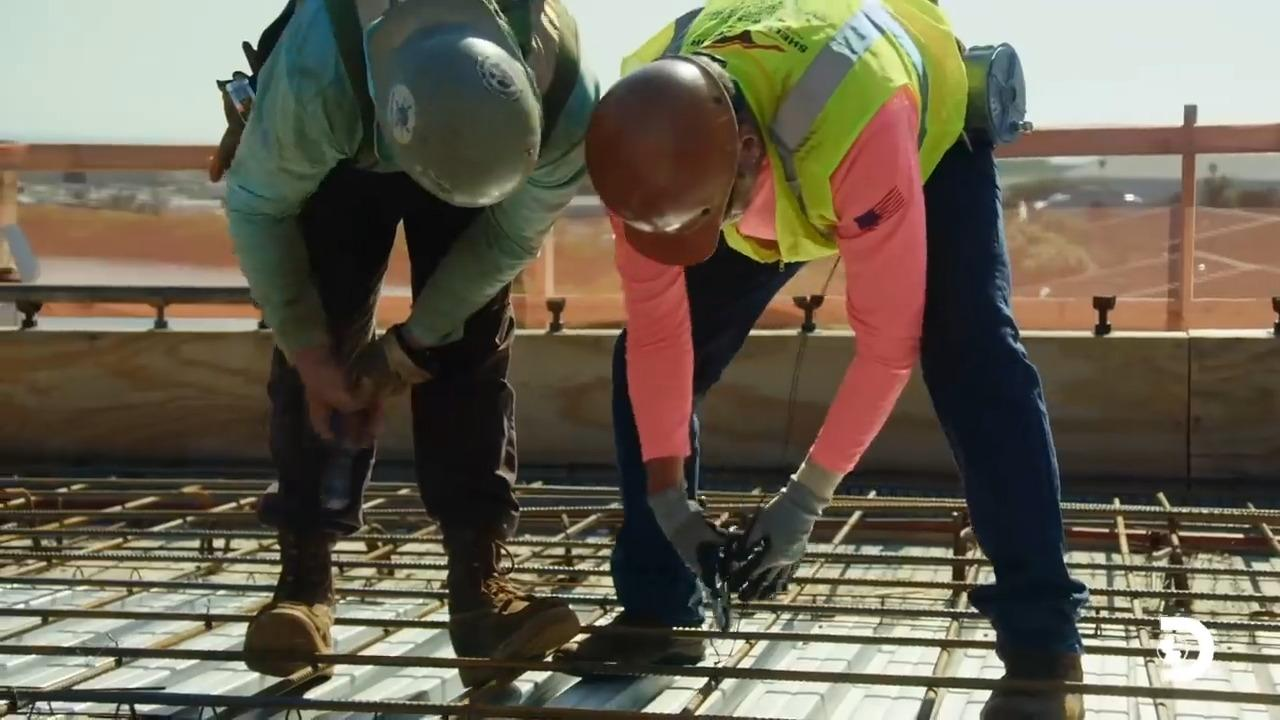Gloves: (652, 478, 806, 609), (359, 349, 416, 432)
Helmet: (362, 0, 544, 208), (583, 53, 741, 267)
Person: (598, 1, 1107, 720), (209, 0, 600, 683)
Safety Boot: (450, 599, 581, 706), (243, 581, 343, 672), (591, 606, 711, 676), (995, 652, 1098, 720)
Safety Vest: (677, 1, 955, 183)
bare-arms: (301, 345, 354, 439)
